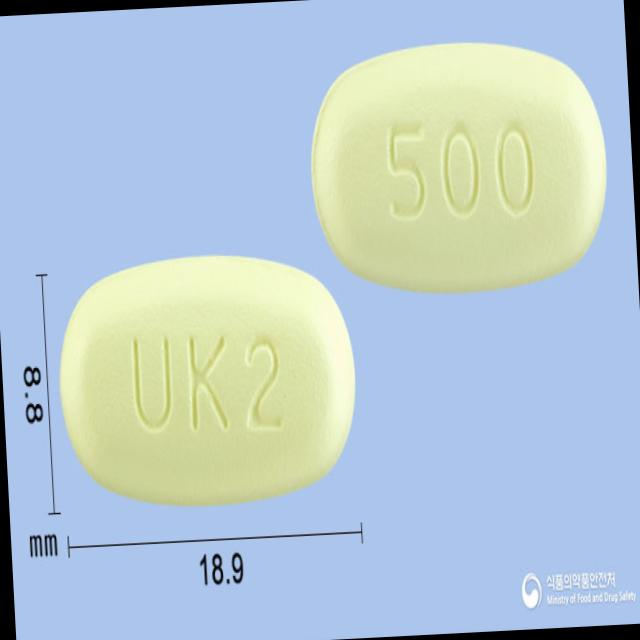Clazin: (51, 244, 364, 516), (305, 34, 612, 300)
